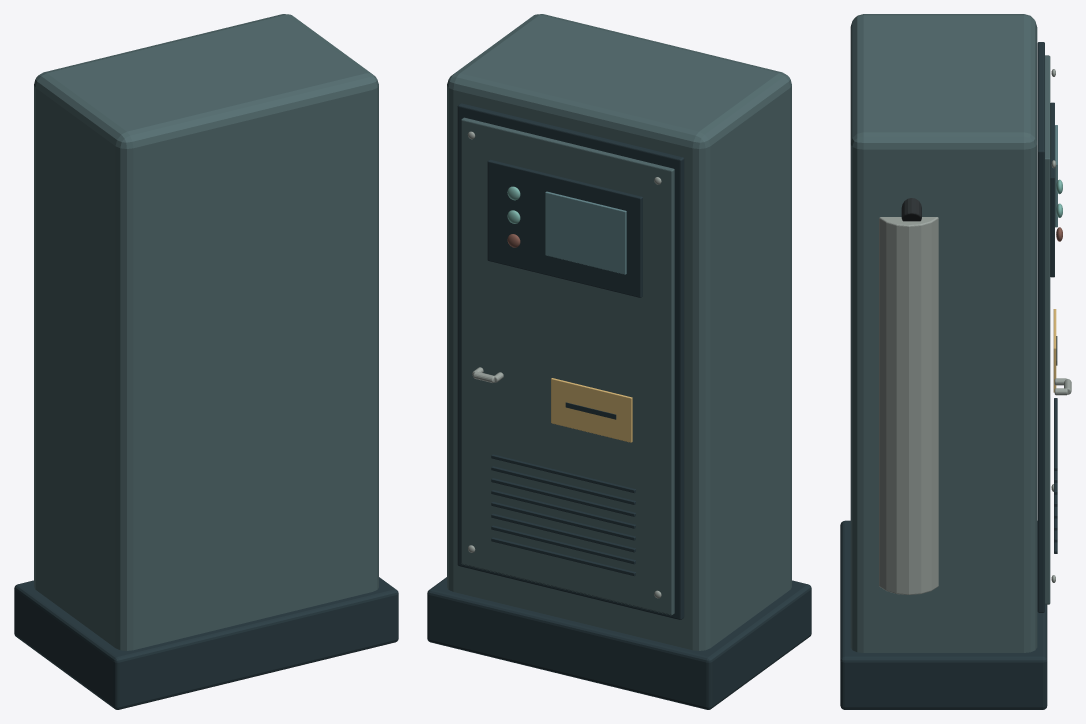
The model's file is machine.fbx.
The picture shows the model from 3 angles, left to right: view 1: azimuth 30°, elevation 25°; view 2: azimuth 150°, elevation 25°; view 3: azimuth 270°, elevation 25°; orthographic projection.
Visible parts, largest first — view 1: machine; view 2: machine; view 3: machine.
Boxes of the visible parts, x1=… form: machine: x1=14, y1=14, x2=398, y2=709; machine: x1=427, y1=14, x2=811, y2=709; machine: x1=840, y1=14, x2=1071, y2=709.
Bounding box in the file's own units: 115 × 215 × 79.3.
